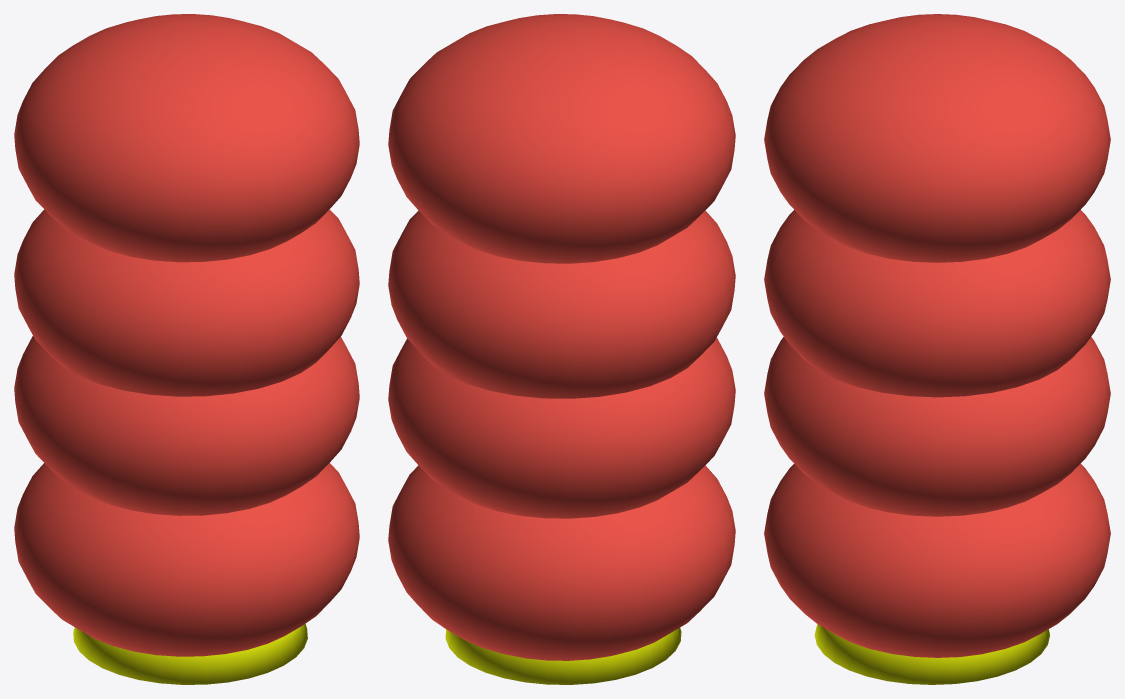
File: Obstacle.fbx
3 views of the same model, side by side, from view 1: azimuth 30°, elevation 25°; view 2: azimuth 150°, elevation 25°; view 3: azimuth 270°, elevation 25° (orthographic).
Visible parts, largest first — view 1: Circle.069; view 2: Circle.069; view 3: Circle.069.
Boxes of the visible parts, bbox=[...] form: Circle.069: bbox=[14, 14, 359, 684]; Circle.069: bbox=[388, 14, 735, 684]; Circle.069: bbox=[764, 14, 1110, 684].
Bounding box in the file's own units: 200 × 381 × 200.
